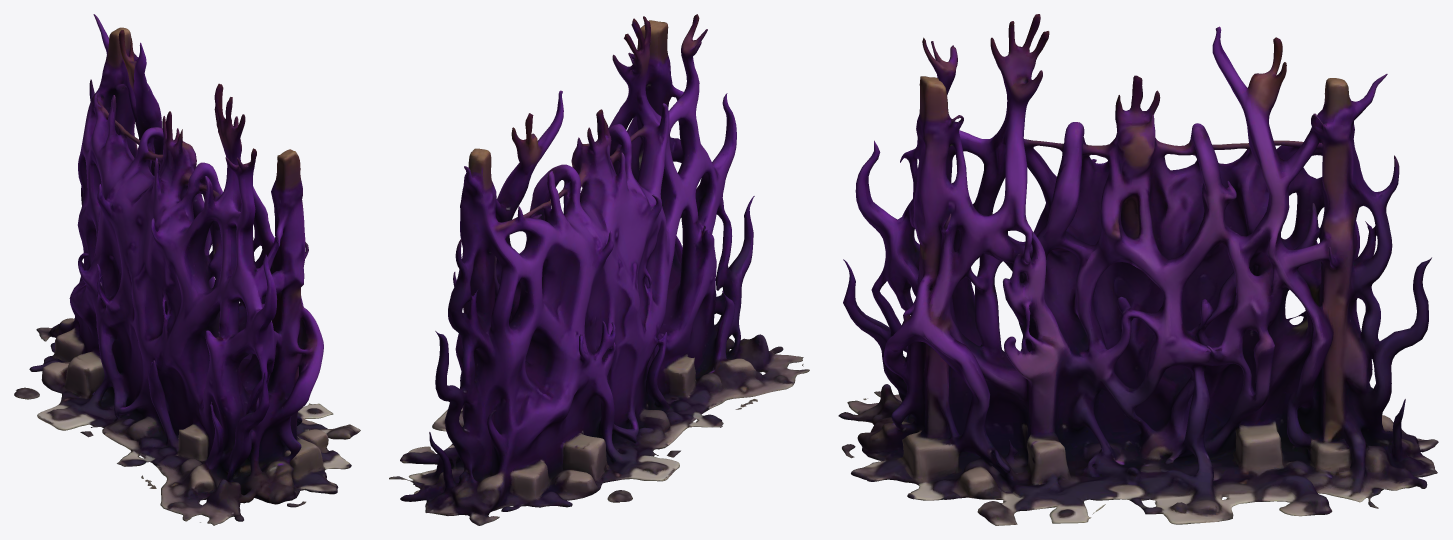
Rendered from SM_Prop_TentacleHandsCluster_01.fbx.
3 renders of one model, left to right at view 1: azimuth 30°, elevation 25°; view 2: azimuth 150°, elevation 25°; view 3: azimuth 270°, elevation 25°, orthographic. The views are drawn at different scales.
Parts seen in each view (by area): view 1: SM_Prop_TentacleHandsCluster_01; view 2: SM_Prop_TentacleHandsCluster_01; view 3: SM_Prop_TentacleHandsCluster_01.
Boxes of the visible parts, x1,y1,x2,y2 form: SM_Prop_TentacleHandsCluster_01: (14, 14, 360, 525); SM_Prop_TentacleHandsCluster_01: (389, 14, 809, 525); SM_Prop_TentacleHandsCluster_01: (838, 14, 1438, 525).
Bounding box in the file's own units: 0.5221 × 0.7897 × 0.9782.
Materials: 1 (1 with a texture image).
